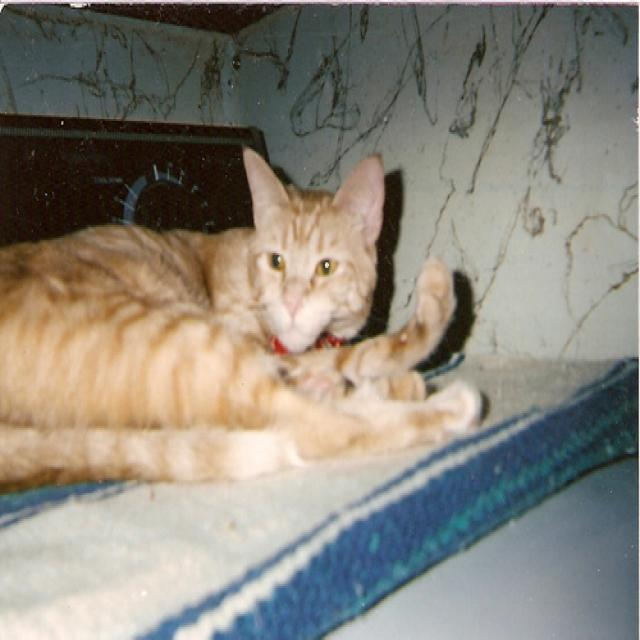cat: (1, 146, 485, 494)
